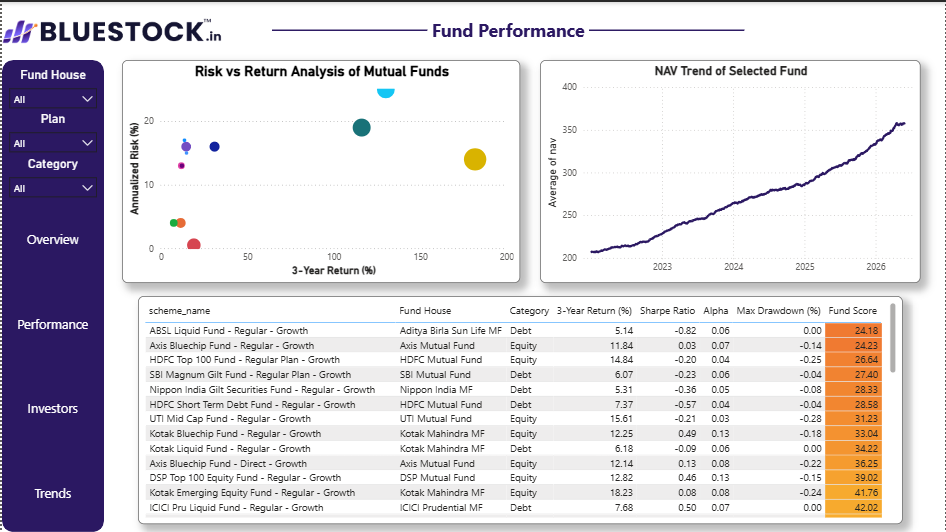

This screenshot's page, from the dashboard's own definition file:
{"tool":"powerbi","page":{"name":"Performance","canvas":[1280,720],"ordinal":1},"visuals":[{"type":"shape","box":[0,78.6,138.6,641.4],"z":0},{"type":"pageNavigator","box":[0,268.6,138.6,451.4],"z":1000},{"type":"textbox","box":[578.6,15.7,218.6,42.9],"z":2000},{"type":"shape","box":[367.1,17.1,211.4,41.4],"z":3000},{"type":"shape","box":[797.1,17.1,211.4,41.4],"z":4000},{"type":"scatterChart","title":"Risk vs Return Analysis of Mutual Funds","fields":{"X":["Sum(scheme_performance_cleaned.return_3yr_pct)"],"Y":["scheme_performance_cleaned.std_dev_ann_pct"],"Size":["Sum(scheme_performance_cleaned.aum_crore)"],"Series":["scheme_performance_cleaned.category"]},"box":[162.9,78.6,541.4,302.9],"z":5000},{"type":"lineChart","title":"NAV Trend of Selected Fund","fields":{"Y":["Avg(nav_history_cleaned.nav)"],"Category":["nav_history_cleaned.date"]},"box":[731.4,78.6,517.1,302.9],"z":6000},{"type":"tableEx","fields":{"Values":["fund_master_cleaned.scheme_name","fund_master_cleaned.fund_house","fund_master_cleaned.category","fund_scorecard.return_3yr_pct","fund_scorecard.sharpe_ratio","fund_scorecard.alpha","fund_scorecard.max_drawdown","fund_scorecard.fund_score"]},"box":[184.3,400,1038.6,310],"z":7000},{"type":"slicer","title":"Category","fields":{"Values":["fund_master_cleaned.category"]},"box":[0,208.6,138.6,60],"z":8000},{"type":"slicer","title":"Plan","fields":{"Values":["fund_master_cleaned.plan"]},"box":[0,148.6,138.6,60],"z":9000},{"type":"slicer","title":"Fund House","fields":{"Values":["fund_master_cleaned.fund_house"]},"box":[0,88.6,138.6,60],"z":10000},{"type":"image","box":[0,0,300,78.6],"z":11000}]}

Visuals, with their boxes in screenshot pixels (x1, y1, x2, y2), scaled from the page's 1280x720 canvas onto the 946x532 screenshot:
shape: {"left": 0, "top": 58, "right": 102, "bottom": 531}
pageNavigator: {"left": 0, "top": 198, "right": 102, "bottom": 531}
textbox: {"left": 428, "top": 12, "right": 589, "bottom": 43}
shape: {"left": 271, "top": 13, "right": 428, "bottom": 43}
shape: {"left": 589, "top": 13, "right": 745, "bottom": 43}
"Risk vs Return Analysis of Mutual Funds" scatterChart: {"left": 120, "top": 58, "right": 521, "bottom": 282}
"NAV Trend of Selected Fund" lineChart: {"left": 541, "top": 58, "right": 923, "bottom": 282}
tableEx - fund_master_cleaned.scheme_name x fund_master_cleaned.fund_house: {"left": 136, "top": 296, "right": 904, "bottom": 525}
"Category" slicer: {"left": 0, "top": 154, "right": 102, "bottom": 198}
"Plan" slicer: {"left": 0, "top": 110, "right": 102, "bottom": 154}
"Fund House" slicer: {"left": 0, "top": 65, "right": 102, "bottom": 110}
image: {"left": 0, "top": 0, "right": 222, "bottom": 58}
